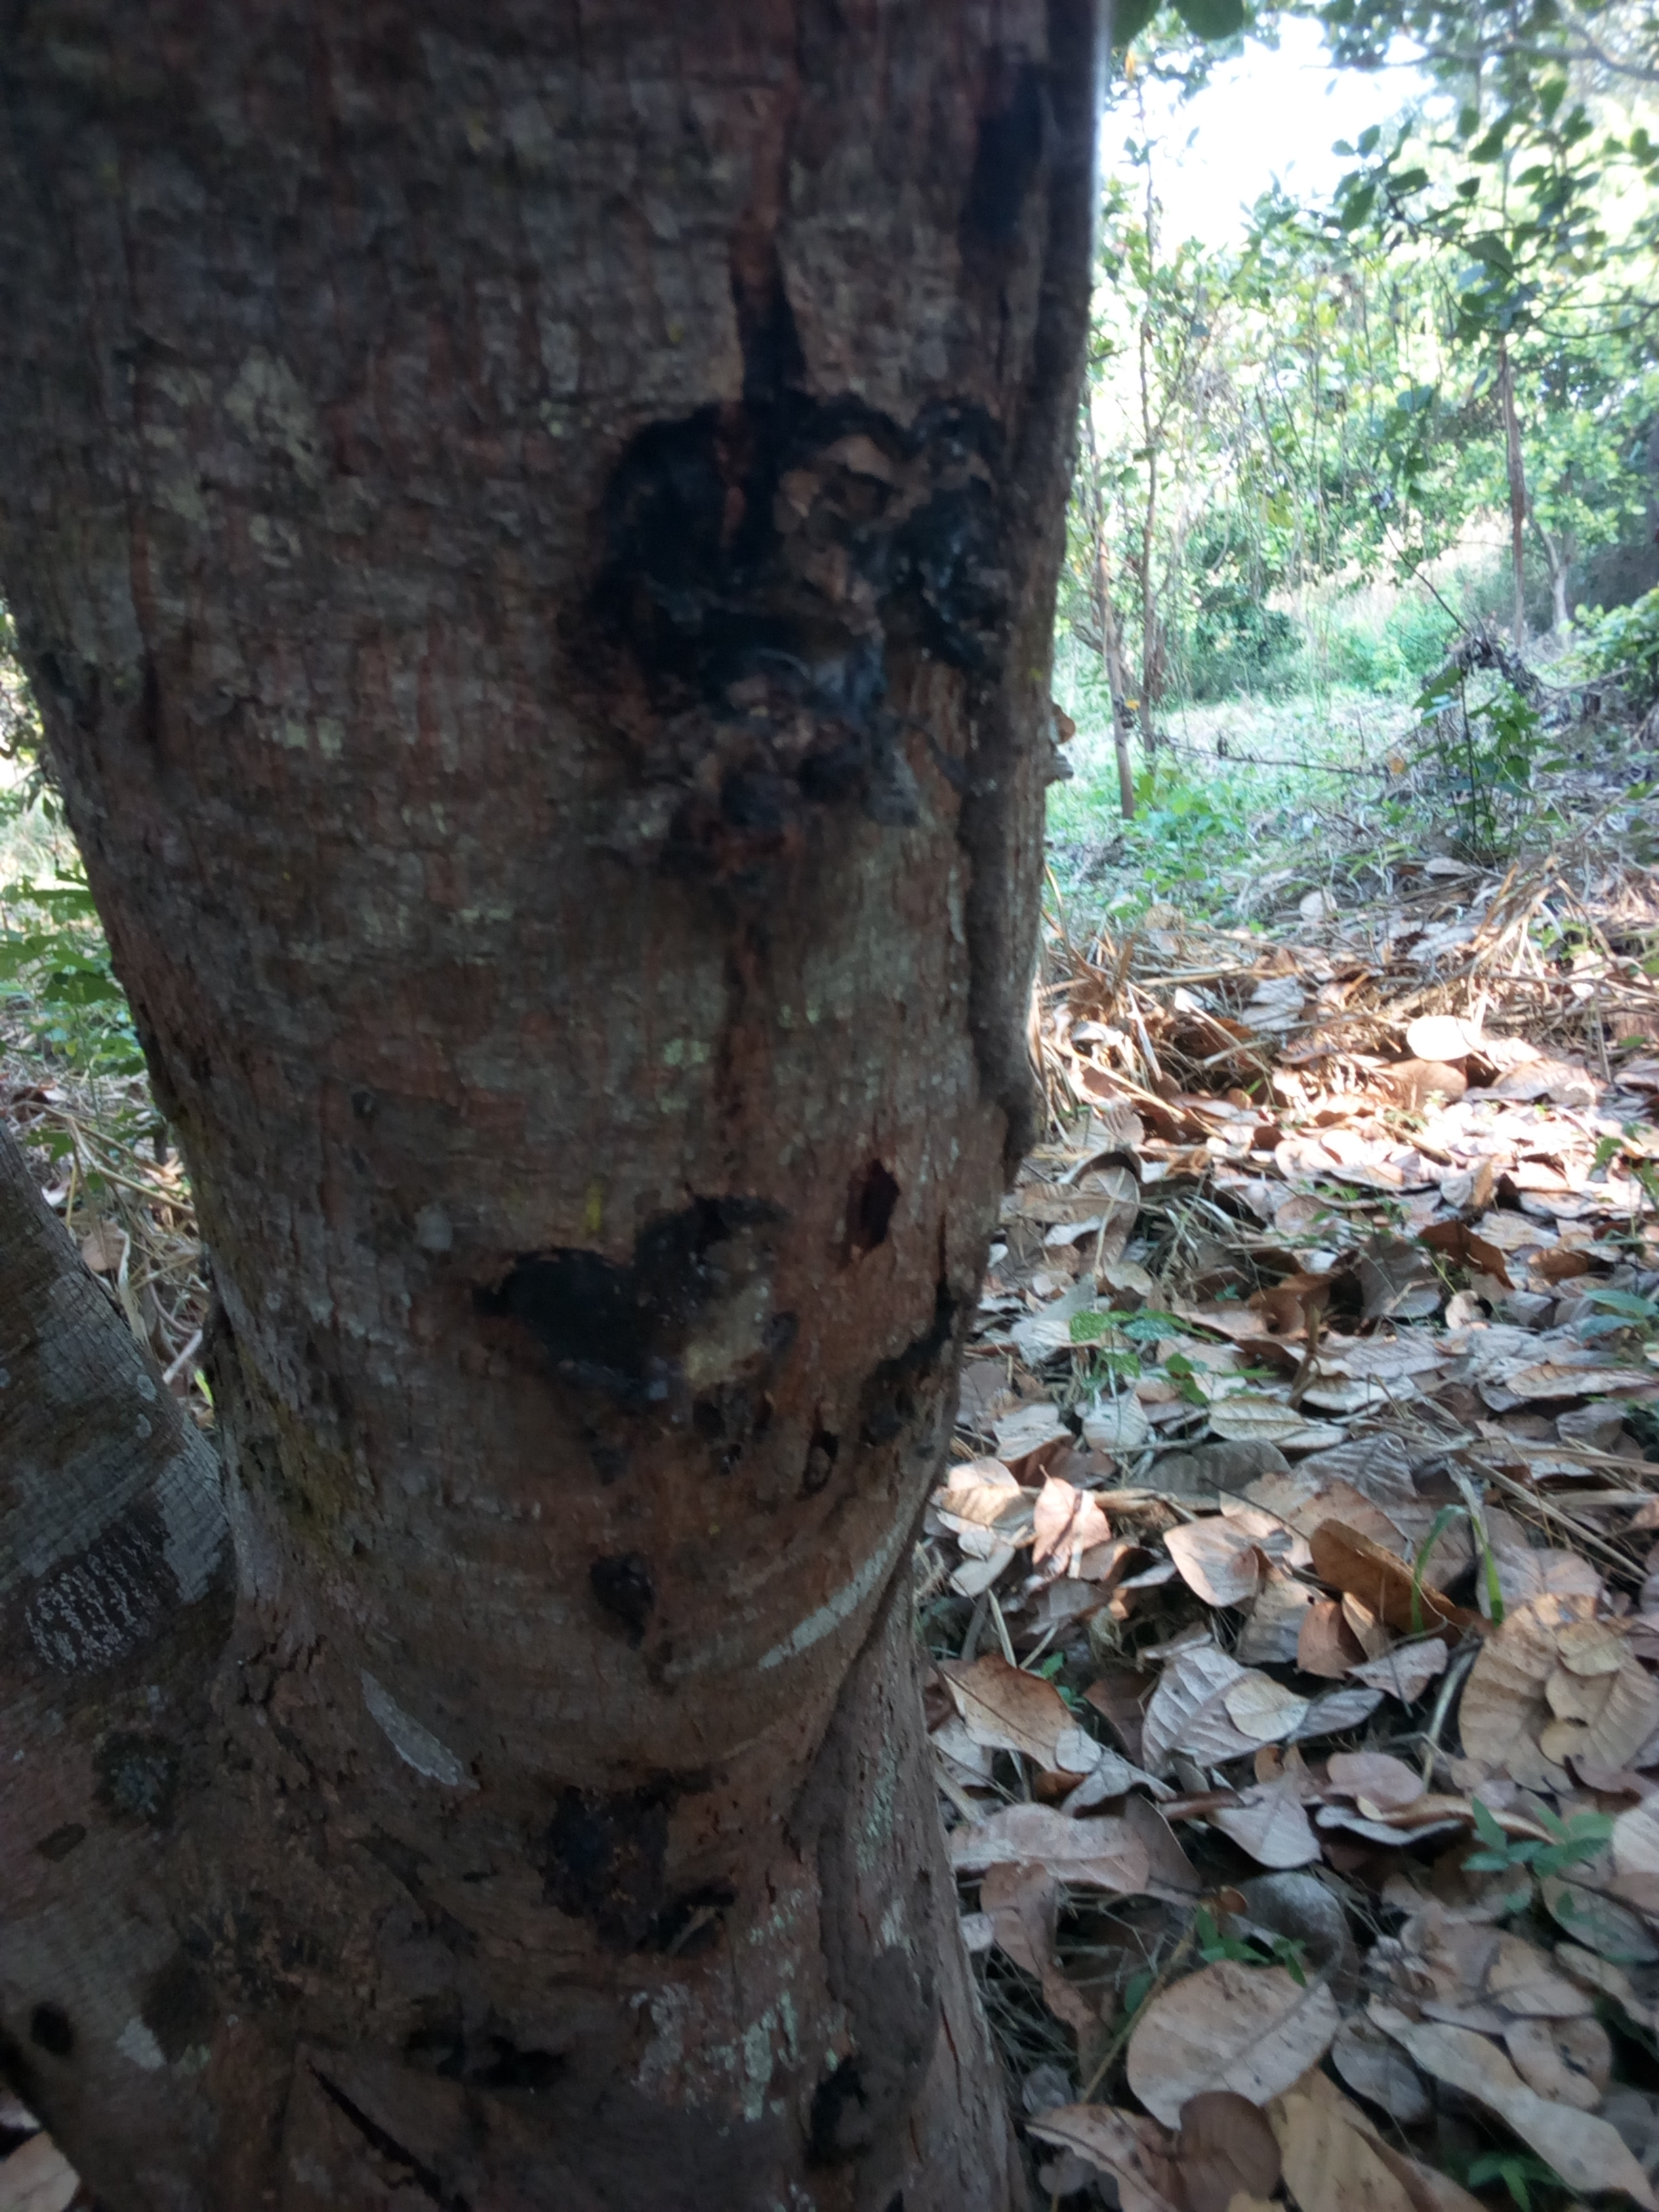Mecocorynus longiceps: (514, 347, 983, 948), (436, 1139, 812, 1583), (450, 1705, 805, 2005)
